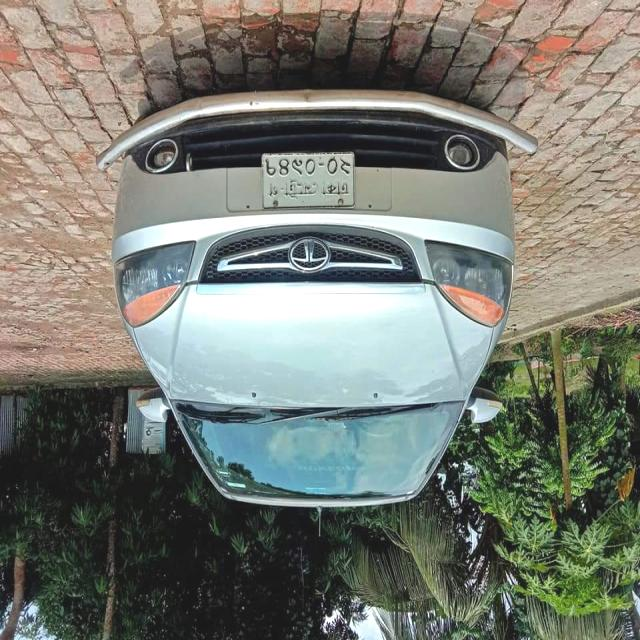silver: (109, 90, 515, 509)
